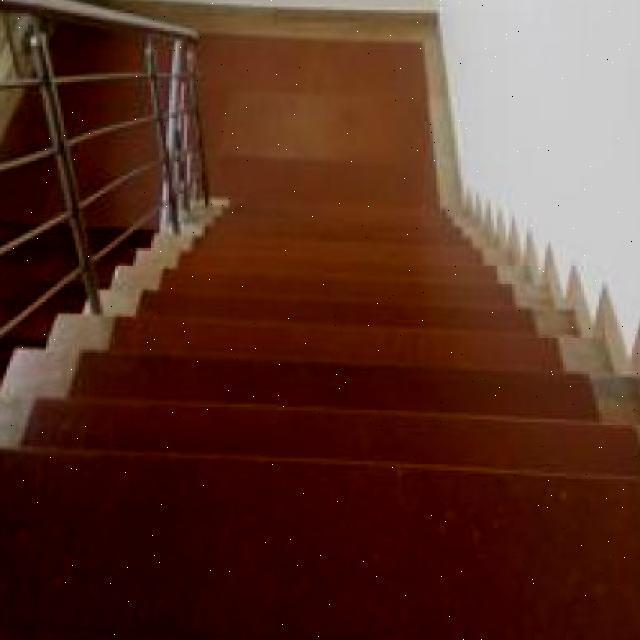stair: (21, 276, 635, 546)
